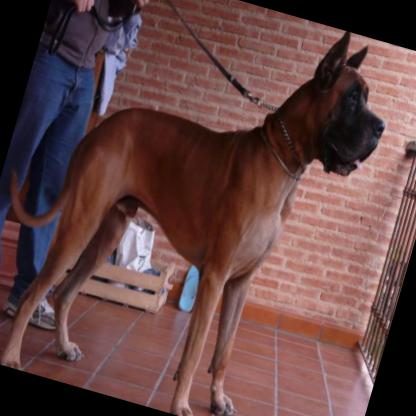Great_Dane: (0, 0, 406, 416)
